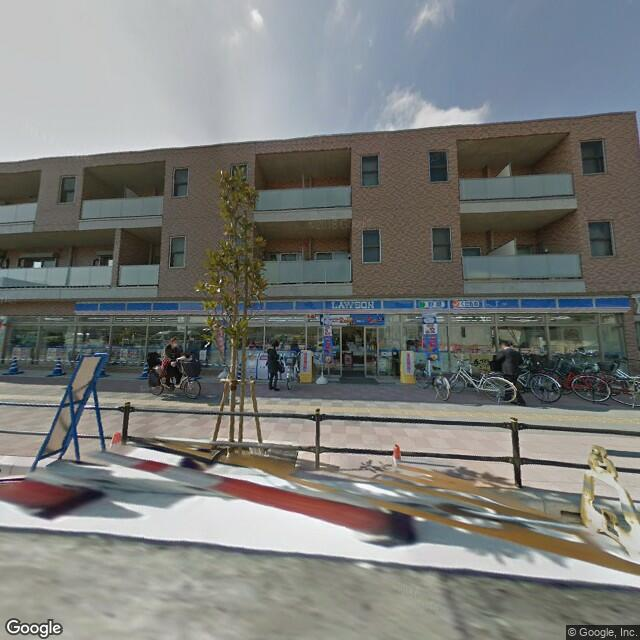lawson: (74, 290, 632, 316)
